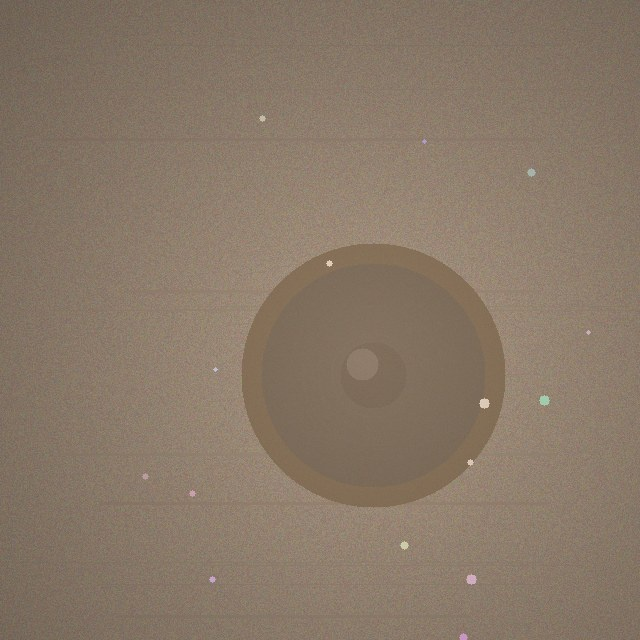overburn: (241, 243, 505, 507)
